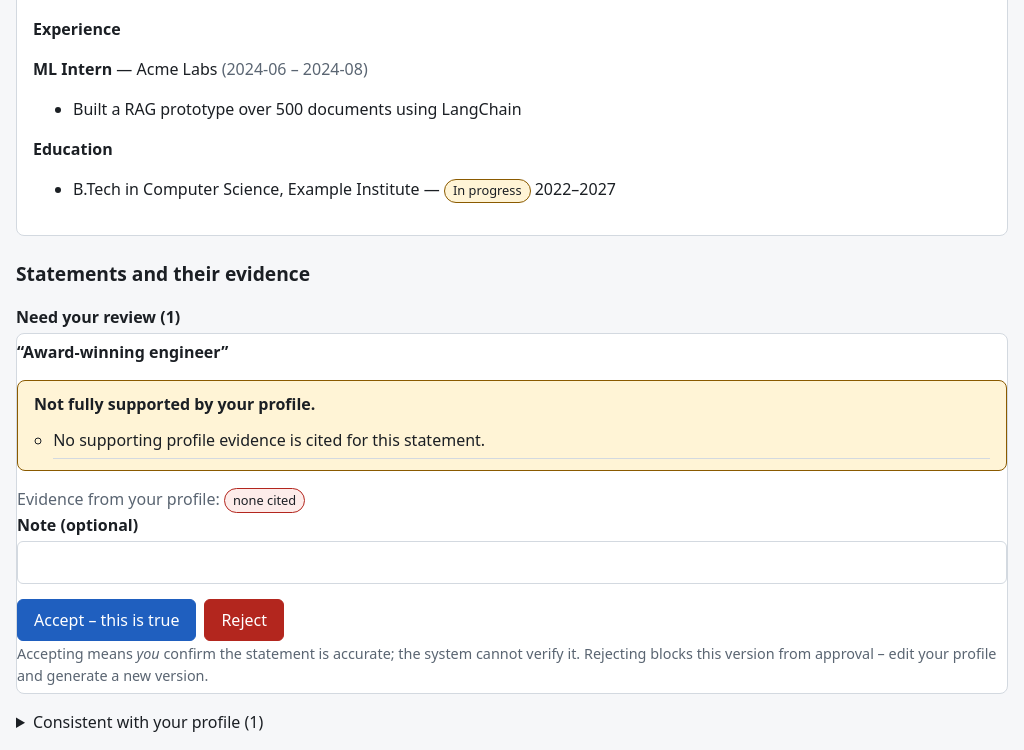
Test case: resume studio › does not pretend to resolve evidence when the profile changed since the version was made
(page scrolled)
Click the heading "Consistent with your profile (1)" at (148, 722), box [33,711,263,733]
(page scrolled)
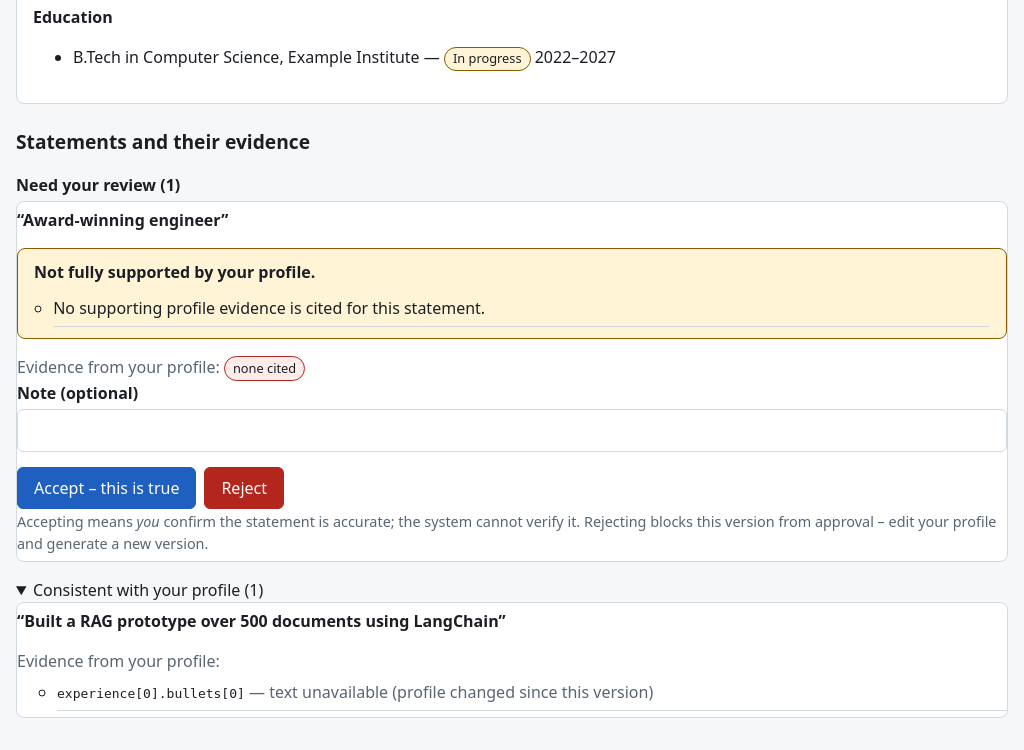
Expected: the text "— text unavailable (profile changed since this version)" is shown, [245,681,653,703]
